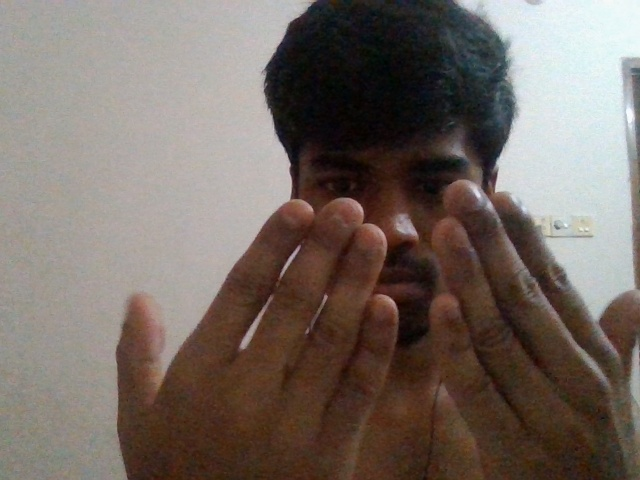Thanks: (97, 183, 640, 480)
